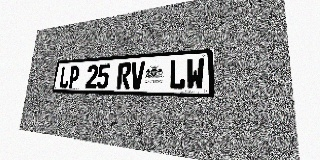2: (85, 64, 99, 89)
5: (96, 64, 110, 89)
L: (169, 59, 186, 90), (58, 66, 71, 88)
P: (68, 65, 80, 89)
R: (116, 62, 131, 89)
V: (130, 62, 145, 89)
W: (186, 58, 204, 90)
